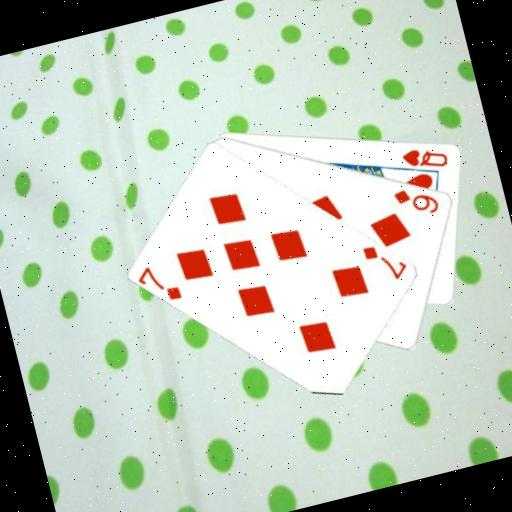6D: (390, 179, 443, 224)
7D: (359, 235, 411, 289), (133, 257, 185, 310)
QH: (398, 138, 452, 178)
